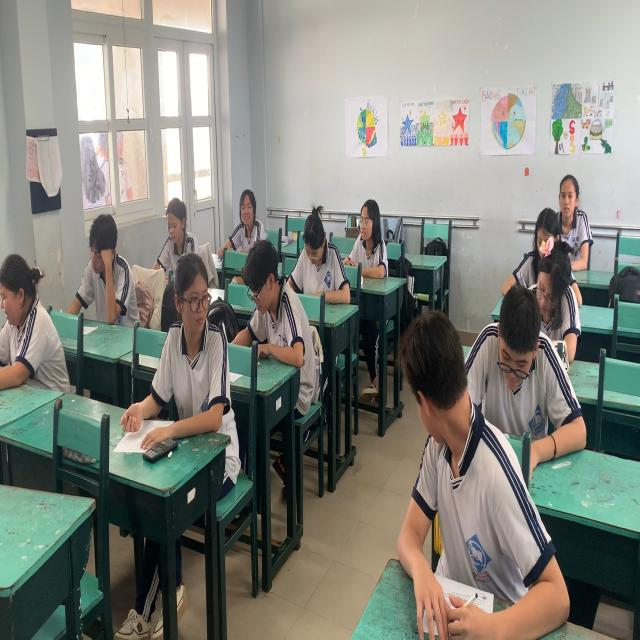cheating: (386, 312, 532, 640), (168, 250, 232, 432)
not_cheating: (474, 284, 568, 458), (522, 233, 582, 367), (0, 250, 59, 385), (76, 201, 138, 326), (242, 232, 294, 357), (292, 205, 348, 315), (342, 194, 392, 284), (553, 171, 593, 273), (226, 185, 269, 246), (156, 192, 191, 266)
